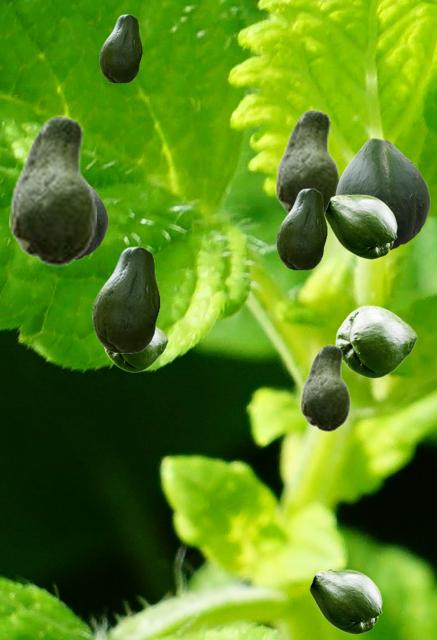sayote: (9, 115, 95, 266), (335, 138, 429, 249), (92, 246, 159, 352), (275, 109, 339, 215), (335, 305, 416, 377), (309, 569, 381, 633), (324, 194, 396, 258), (300, 344, 349, 431), (276, 188, 326, 269), (99, 14, 141, 82), (104, 327, 167, 371), (78, 187, 107, 259)
